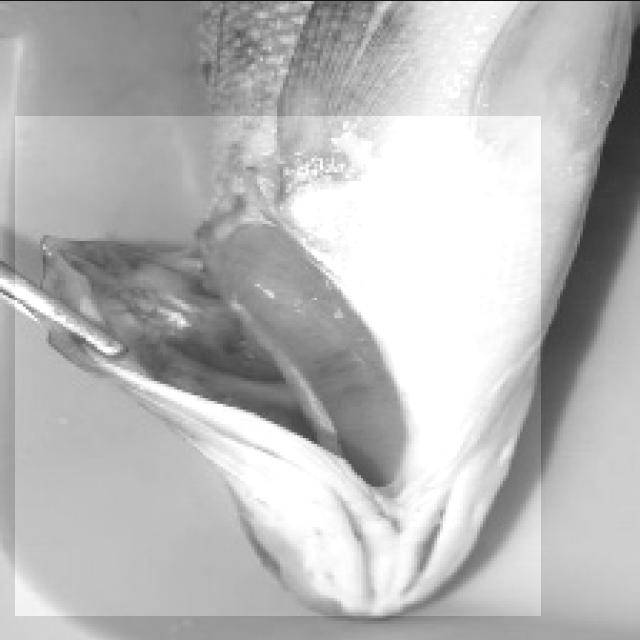Gill Disease: (15, 115, 541, 615)
